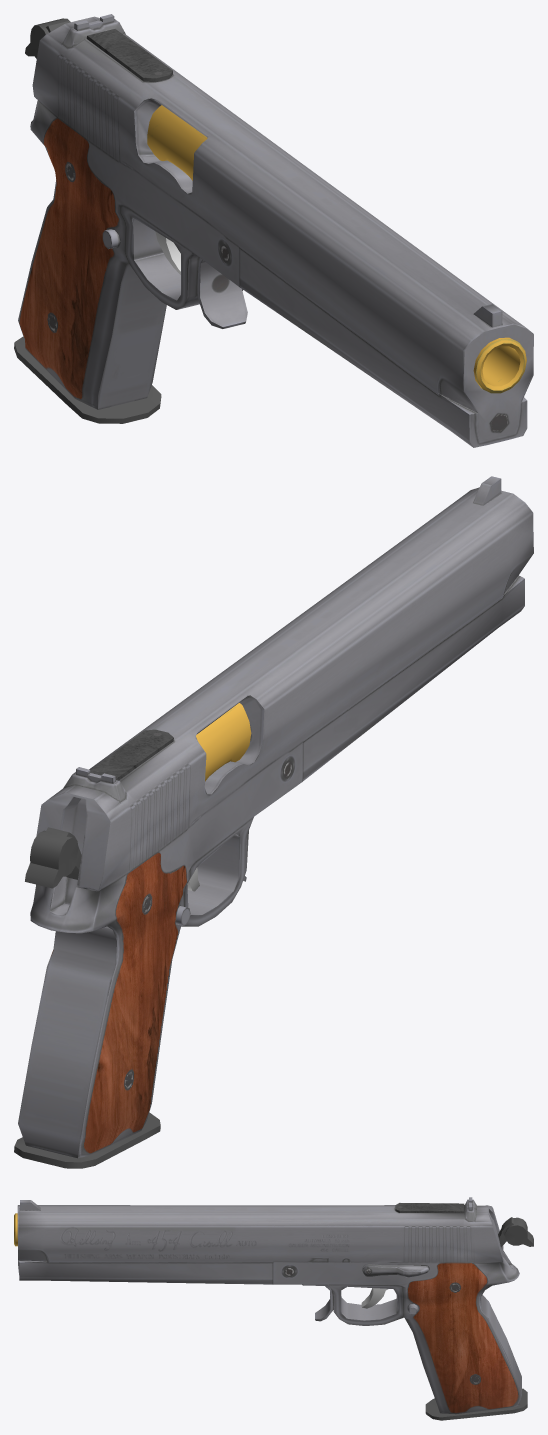
Rendered from Jackal.fbx.
3 renders of one model, top to bottom at view 1: azimuth 30°, elevation 25°; view 2: azimuth 150°, elevation 25°; view 3: azimuth 270°, elevation 25°, orthographic. The views are drawn at different scales.
Parts seen in each view (by area): view 1: Slide, Body, Hammer; view 2: Slide, Body, Hammer; view 3: Slide, Body, Hammer, Trigger.
Part boxes in pixels (bbox=[...]): Slide: bbox=[30, 14, 533, 447]; Body: bbox=[14, 120, 247, 423]; Hammer: bbox=[25, 18, 70, 58]; Slide: bbox=[36, 476, 533, 931]; Body: bbox=[14, 817, 253, 1168]; Hammer: bbox=[25, 827, 81, 888]; Slide: bbox=[14, 1197, 508, 1294]; Body: bbox=[302, 1241, 527, 1420]; Hammer: bbox=[498, 1217, 533, 1246]; Trigger: bbox=[361, 1288, 388, 1308].
Size of the model in its own units: 0.0453 by 0.1864 by 0.4197.
1 material, 1 textured.
